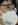with_mask: (1, 2, 18, 25)
